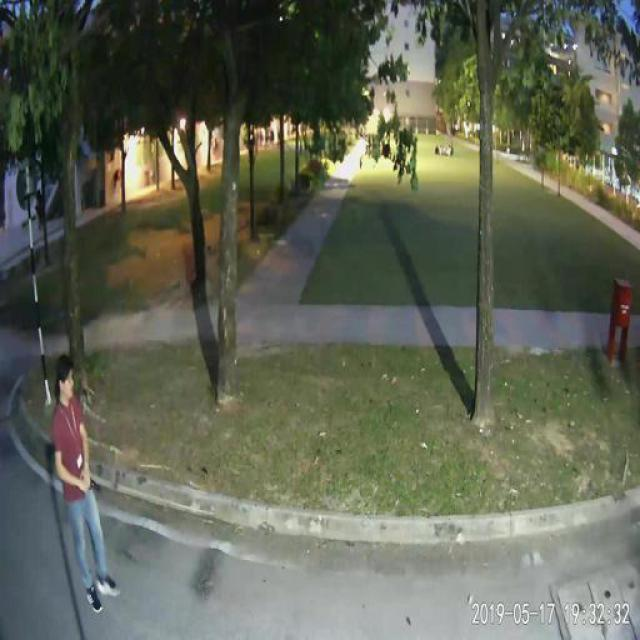weapon: (86, 477, 102, 494)
